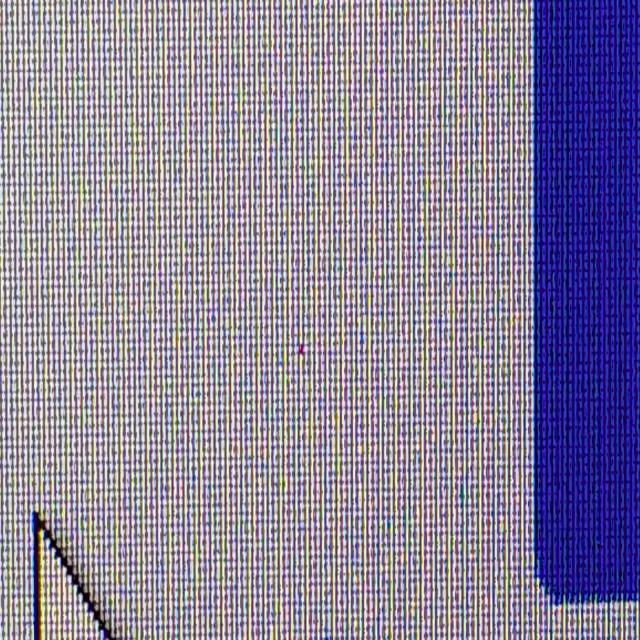Dead pixel: (296, 342, 306, 356)
